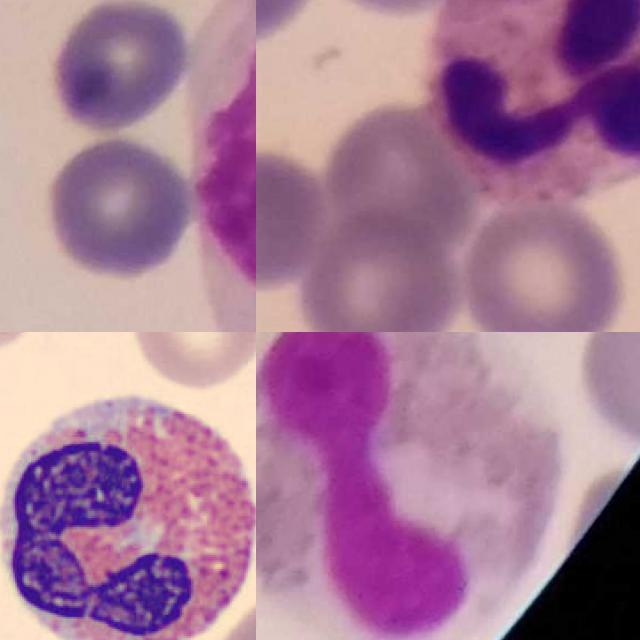Eosinophil: (256, 332, 560, 640), (0, 369, 256, 640)
Monocyte: (188, 0, 256, 332)
Neutrophil: (428, 0, 640, 202)
RBC: (127, 332, 256, 391)
